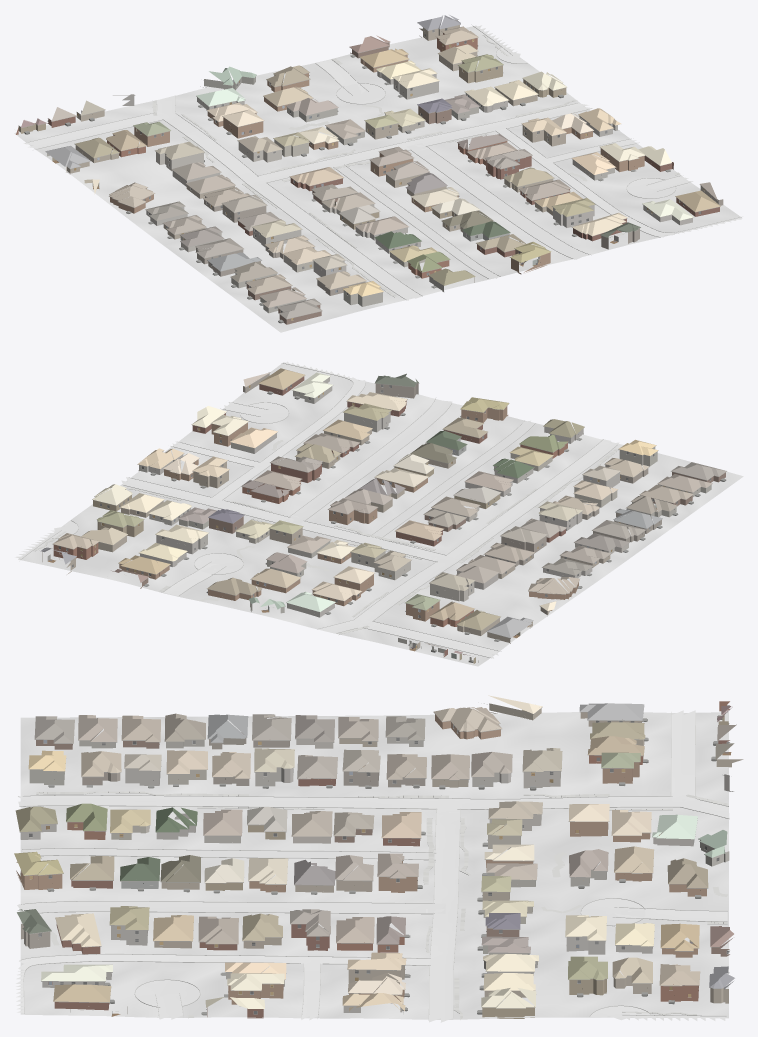
The picture shows the model from 3 angles, top to bottom: view 1: azimuth 30°, elevation 25°; view 2: azimuth 150°, elevation 25°; view 3: azimuth 270°, elevation 25°; orthographic projection. The views are drawn at different scales.
Visible parts, largest first — view 1: ground, roof, concrete, wall, detail, wall_stucco, wall_stone, curb, walk, glass; view 2: ground, roof, concrete, wall, detail, wall_stone, wall_stucco, curb, walk, glass; view 3: ground, roof, concrete, wall, curb, detail, wall_stucco, wall_stone, walk, glass.
Part boxes in pixels (left/top/right/bottom): ground: left=14, top=25, right=742, bottom=332; roof: left=21, top=15, right=720, bottom=318; concrete: left=23, top=25, right=741, bottom=300; wall: left=16, top=20, right=723, bottom=324; detail: left=21, top=19, right=720, bottom=323; wall_stucco: left=156, top=52, right=509, bottom=313; wall_stone: left=122, top=71, right=692, bottom=291; curb: left=26, top=25, right=741, bottom=299; walk: left=152, top=35, right=679, bottom=297; glass: left=48, top=28, right=700, bottom=312; ground: left=18, top=362, right=743, bottom=666; roof: left=40, top=368, right=726, bottom=655; concrete: left=15, top=361, right=619, bottom=658; wall: left=42, top=372, right=725, bottom=663; detail: left=52, top=372, right=726, bottom=662; wall_stone: left=138, top=377, right=619, bottom=617; wall_stucco: left=90, top=438, right=711, bottom=615; curb: left=20, top=363, right=618, bottom=657; walk: left=33, top=440, right=618, bottom=634; glass: left=58, top=384, right=710, bottom=655; ground: left=20, top=712, right=728, bottom=1019; roof: left=14, top=695, right=736, bottom=1011; concrete: left=16, top=710, right=729, bottom=1022; wall: left=16, top=701, right=743, bottom=1018; curb: left=18, top=712, right=728, bottom=1020; detail: left=19, top=703, right=729, bottom=1015; wall_stucco: left=29, top=703, right=729, bottom=993; wall_stone: left=20, top=737, right=733, bottom=1012; walk: left=36, top=791, right=728, bottom=1019; glass: left=21, top=705, right=729, bottom=1014.
Bounding box in the file's own units: 258 × 12.36 × 258.
